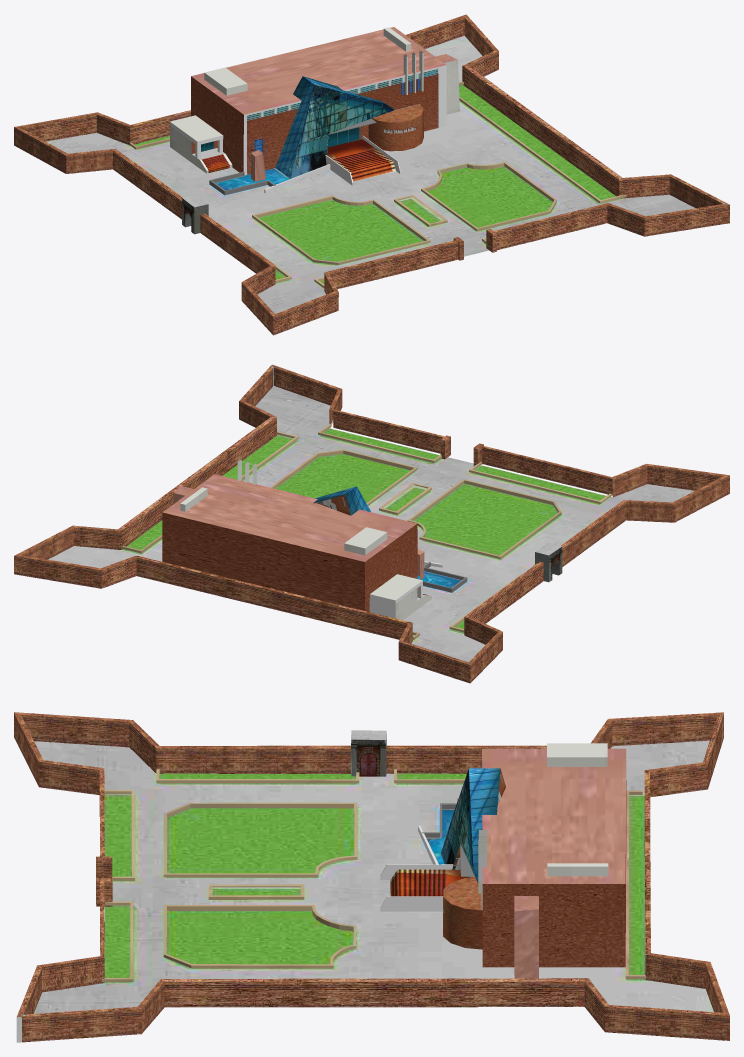
3 views of the same model, one above another, from view 1: azimuth 30°, elevation 25°; view 2: azimuth 150°, elevation 25°; view 3: azimuth 270°, elevation 25° (orthographic). The views are drawn at different scales.
Visible parts, largest first — view 1: 5b46d413287eb62c885368dc.001; view 2: 5b46d413287eb62c885368dc.001; view 3: 5b46d413287eb62c885368dc.001.
Part boxes in pixels (x1=…): 5b46d413287eb62c885368dc.001: x1=14, y1=14, x2=729, y2=335; 5b46d413287eb62c885368dc.001: x1=14, y1=364, x2=729, y2=683; 5b46d413287eb62c885368dc.001: x1=14, y1=712, x2=729, y2=1042.
Size of the model in its own units: 117 by 19.95 by 116.
1 material, 1 textured.
